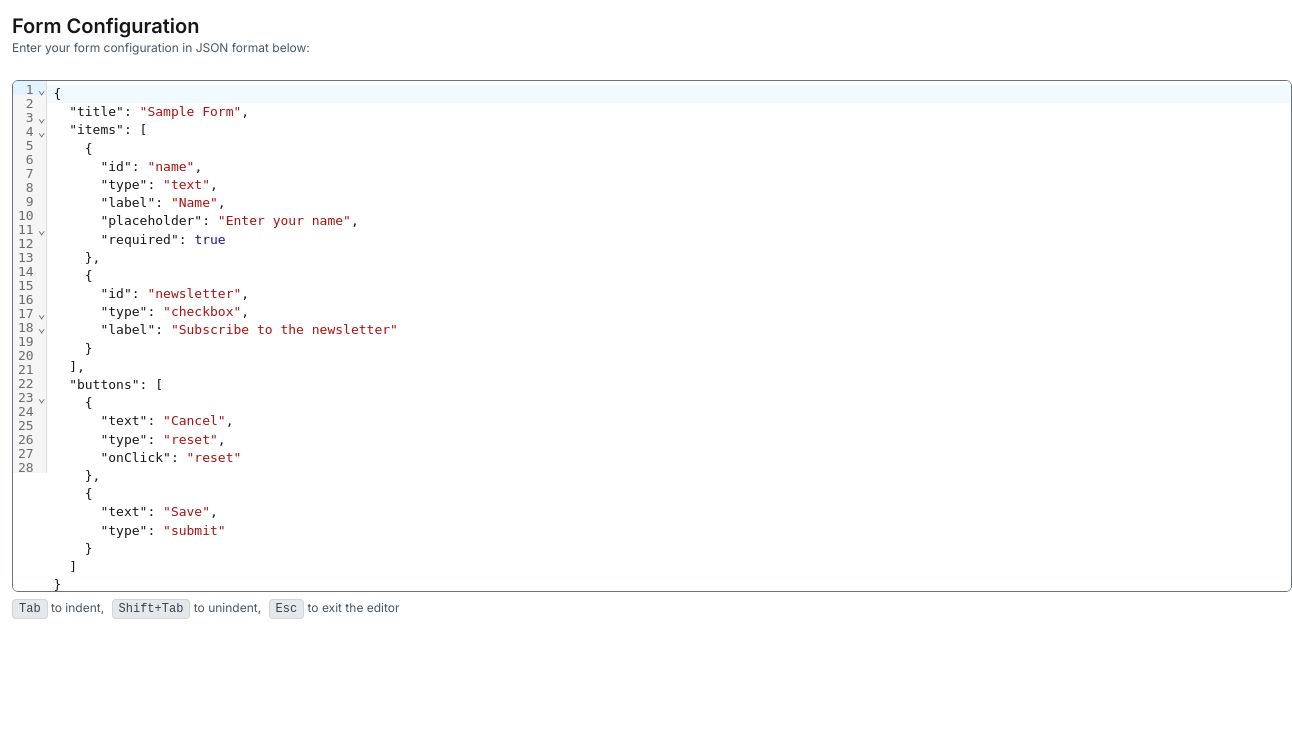
Test case: ConfigTab invalid configuration › marks the editor invalid and lists the issue once parsing fails
The width and height of the screenshot is (1292, 732).
Step 1. Clear the field named "JSON Form Configuration Editor" → (669, 340), box [48,81,1291,598]
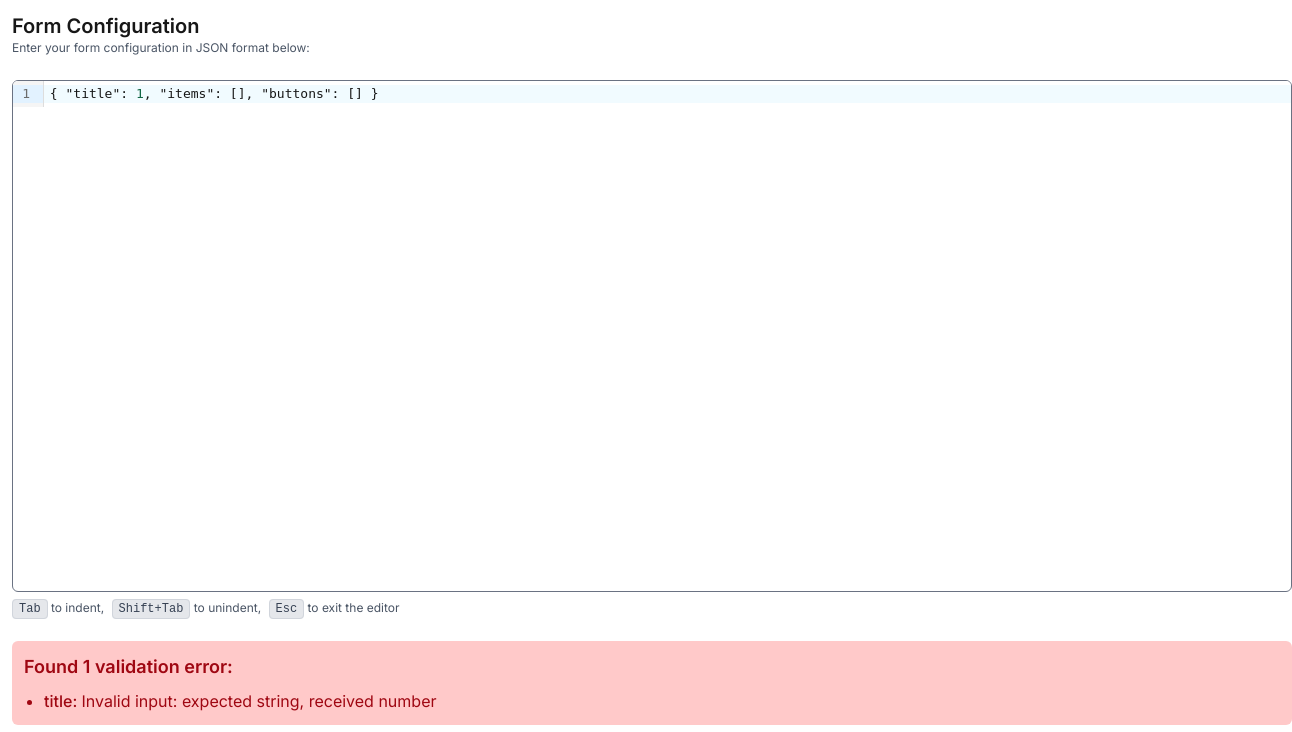
Expected: the message shows "Found 1 validation error:", [12,641,1291,725]
